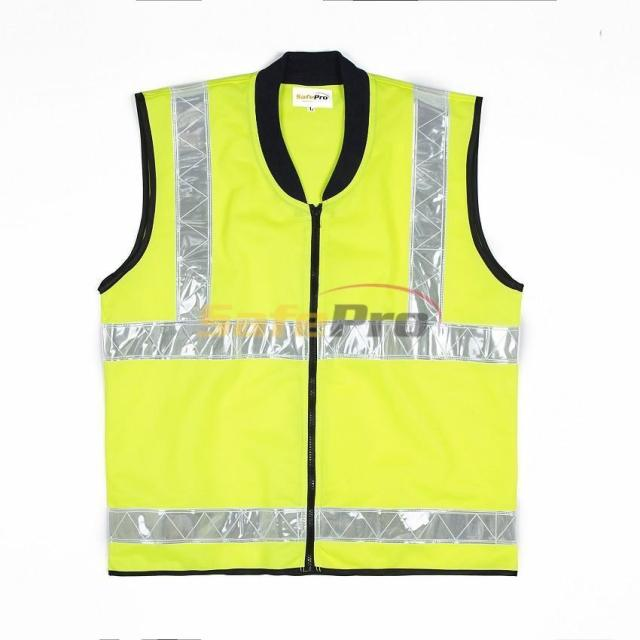Vest: (95, 43, 525, 577)
